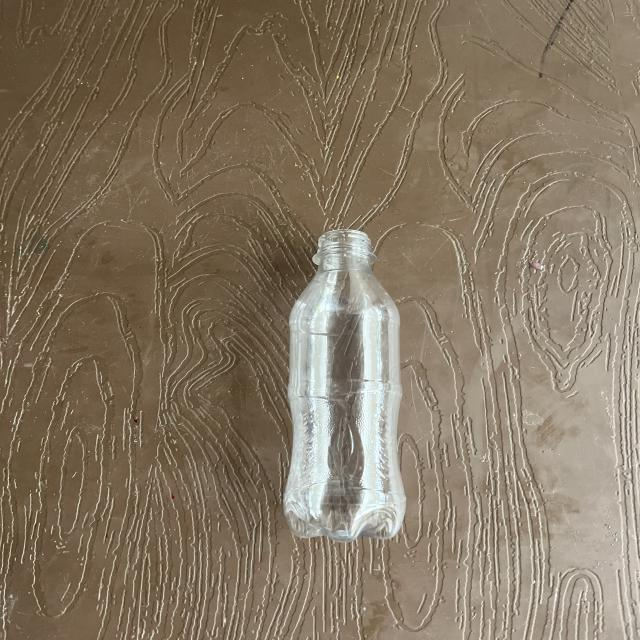PET_ClearBottle: (270, 223, 416, 582)
